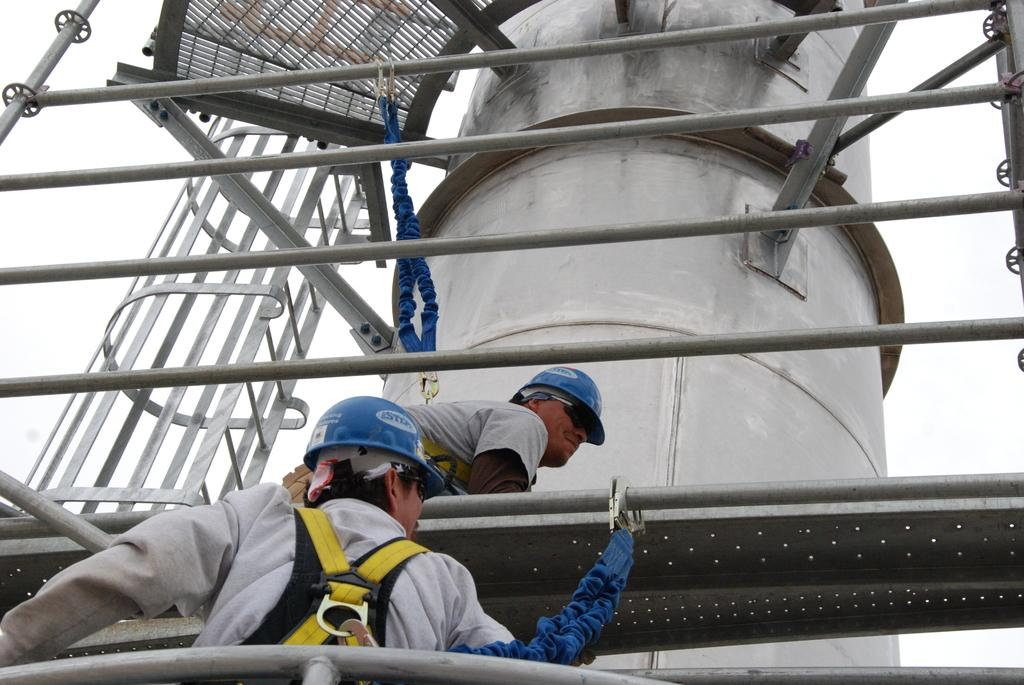helmet: (303, 395, 445, 539), (512, 366, 605, 467)
